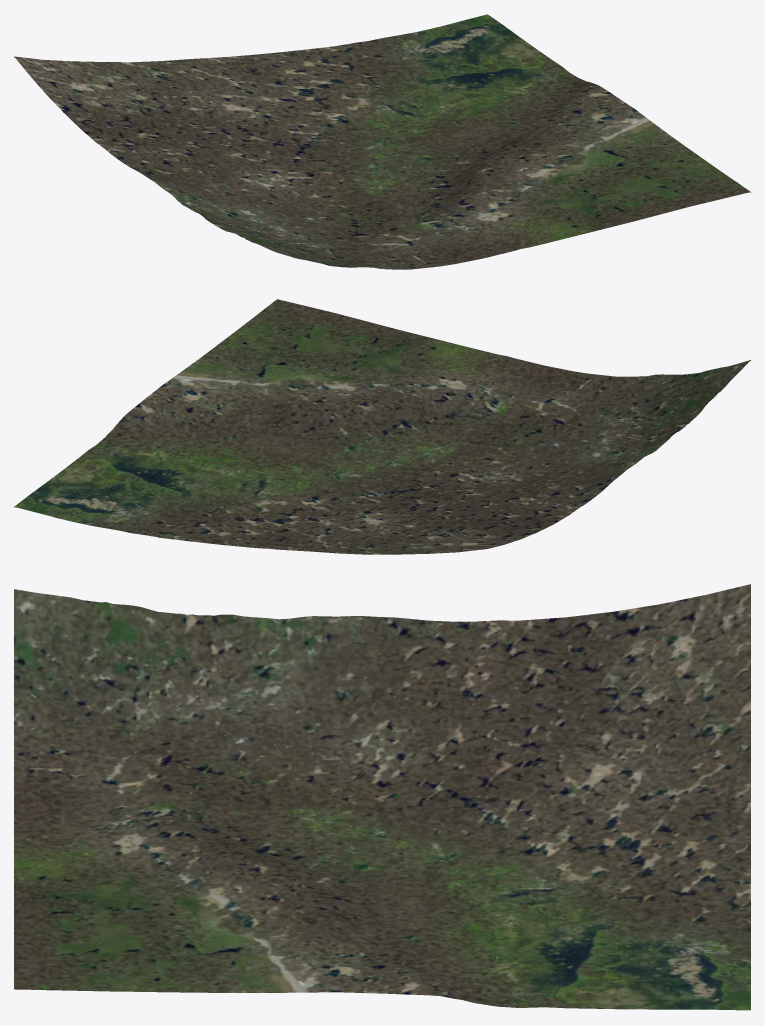
3 views of the same model, one above another, from view 1: azimuth 30°, elevation 25°; view 2: azimuth 150°, elevation 25°; view 3: azimuth 270°, elevation 25° (orthographic). The views are drawn at different scales.
Bounding box in the file's own units: 500 × 75.84 × 481.
1 material, 1 textured.
